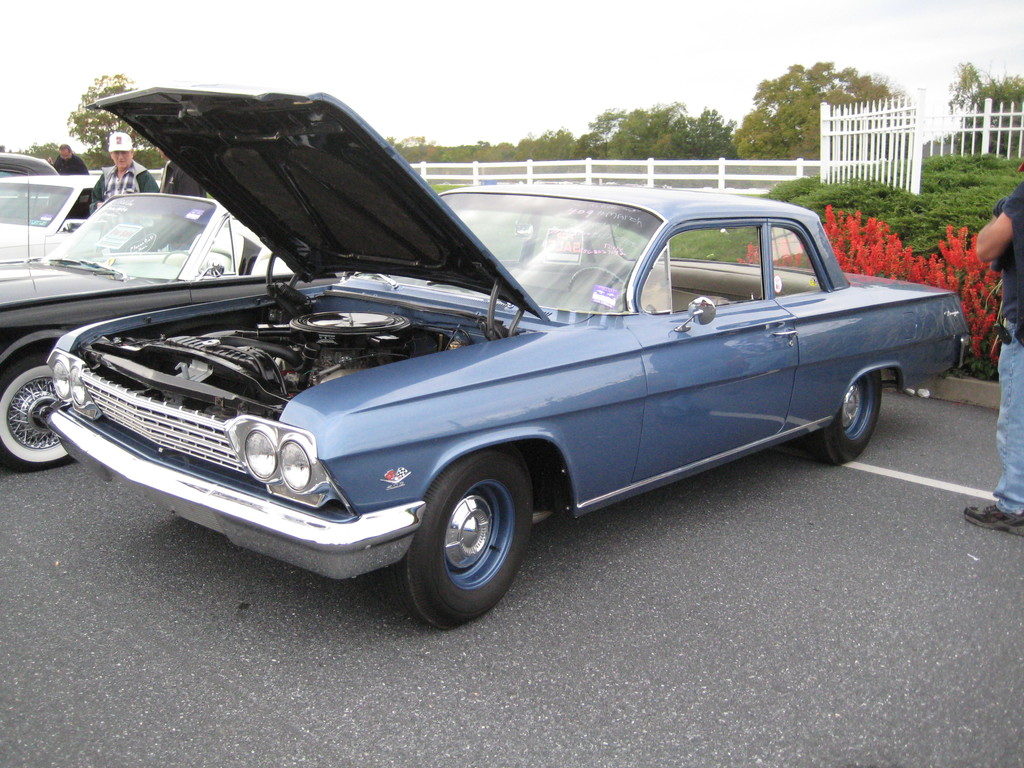mobil: (1, 189, 981, 616)
